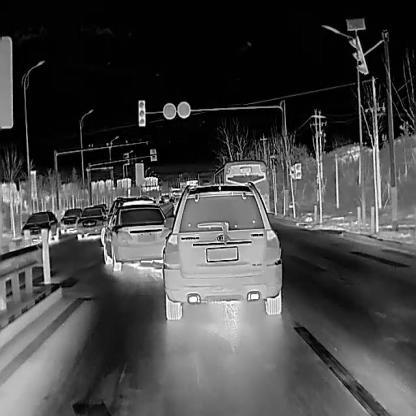car: (161, 179, 282, 319), (101, 203, 169, 272), (212, 159, 269, 214), (19, 209, 58, 245), (75, 205, 109, 239), (58, 206, 82, 234)
